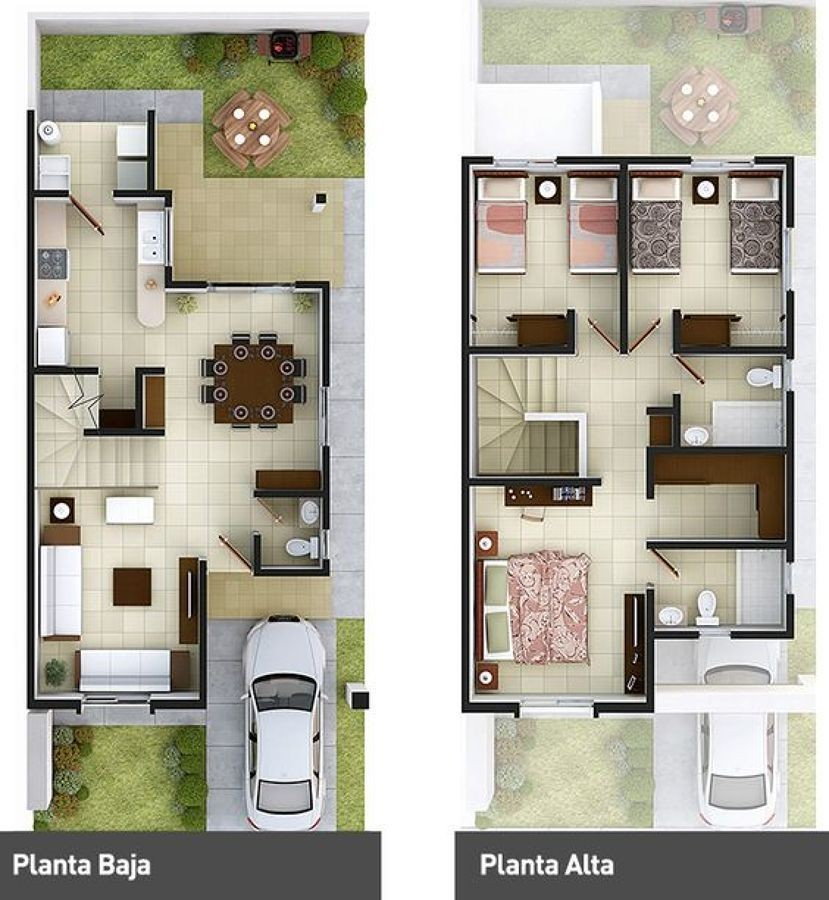room: (27, 367, 208, 708), (463, 477, 653, 711), (621, 157, 794, 353), (461, 157, 628, 354), (648, 541, 794, 638)
